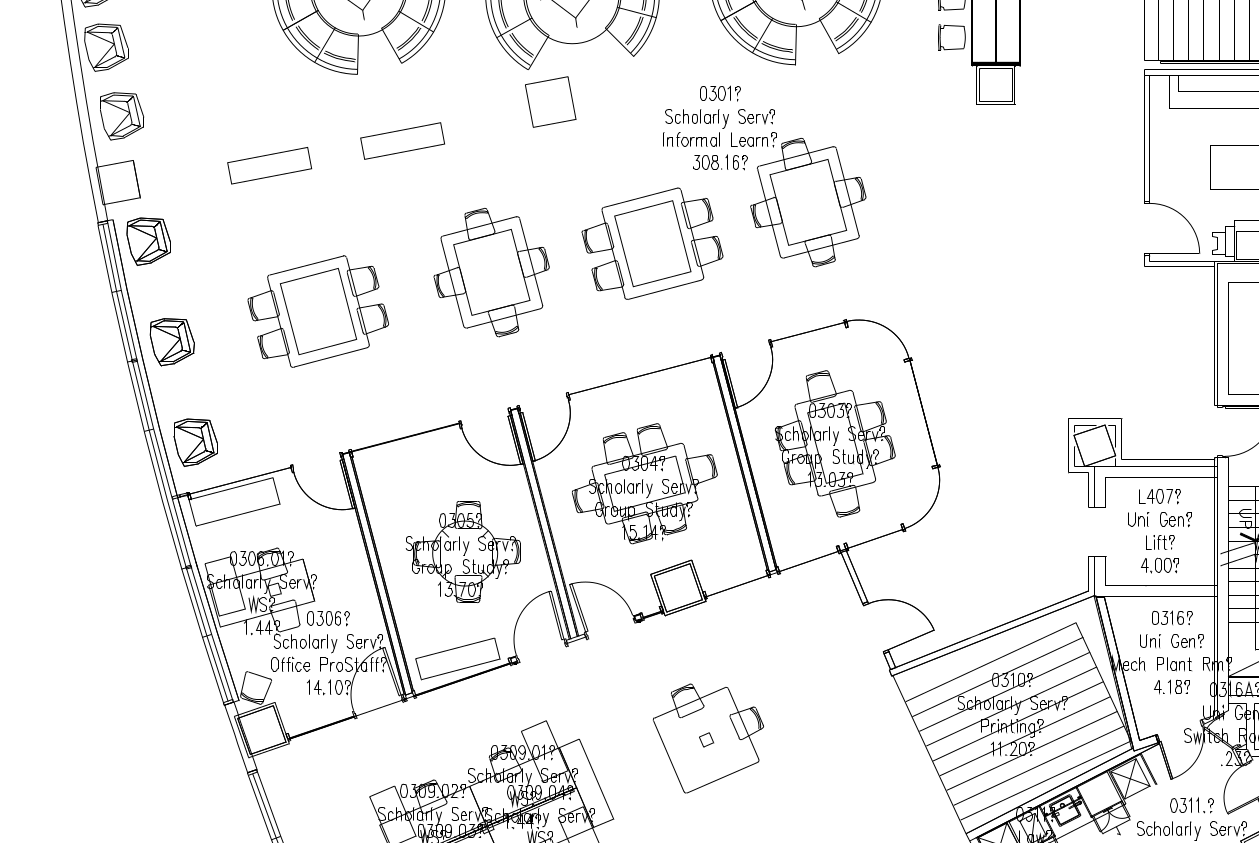door: (567, 562, 642, 643), (493, 582, 568, 663), (326, 638, 401, 719), (286, 441, 361, 522), (857, 579, 941, 651), (1131, 198, 1205, 259), (460, 408, 524, 475), (520, 396, 584, 463), (718, 341, 782, 408), (1157, 722, 1208, 781), (1217, 761, 1258, 819)
